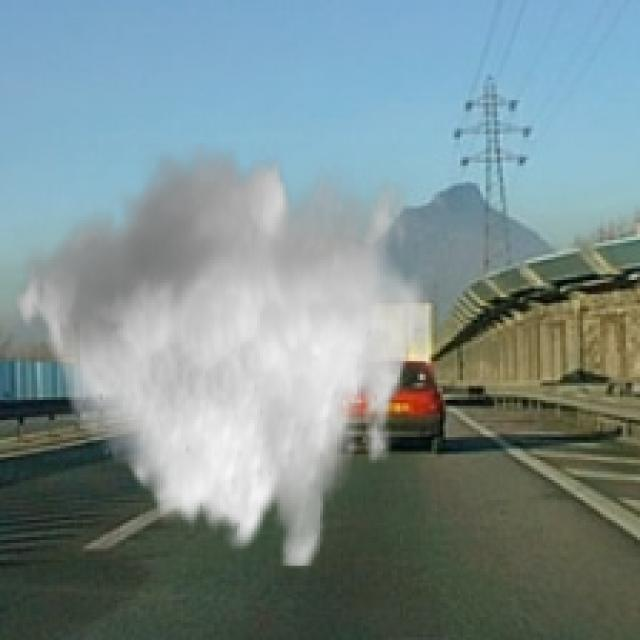Smoke: (6, 142, 432, 568)
